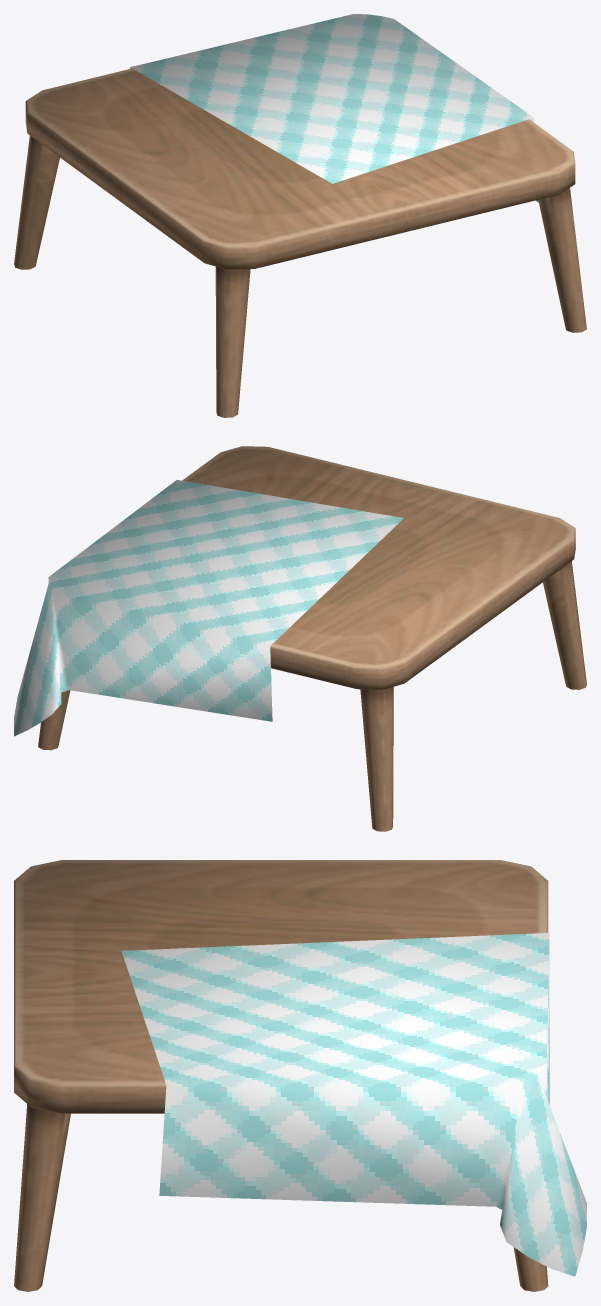
The model's file is rmk_lse_tableL.dae.
3 renders of one model, top to bottom at view 1: azimuth 30°, elevation 25°; view 2: azimuth 150°, elevation 25°; view 3: azimuth 270°, elevation 25°, orthographic. The views are drawn at different scales.
Visible parts, largest first — view 1: rmk_lse_tableL; view 2: rmk_lse_tableL; view 3: rmk_lse_tableL.
Part boxes in pixels (x1,y1,x2,y2): rmk_lse_tableL: [14, 14, 586, 417]; rmk_lse_tableL: [14, 446, 586, 831]; rmk_lse_tableL: [14, 860, 586, 1291].
Size of the model in its own units: 59.68 by 24.2 by 60.06.
Materials: 2 (2 with a texture image).
